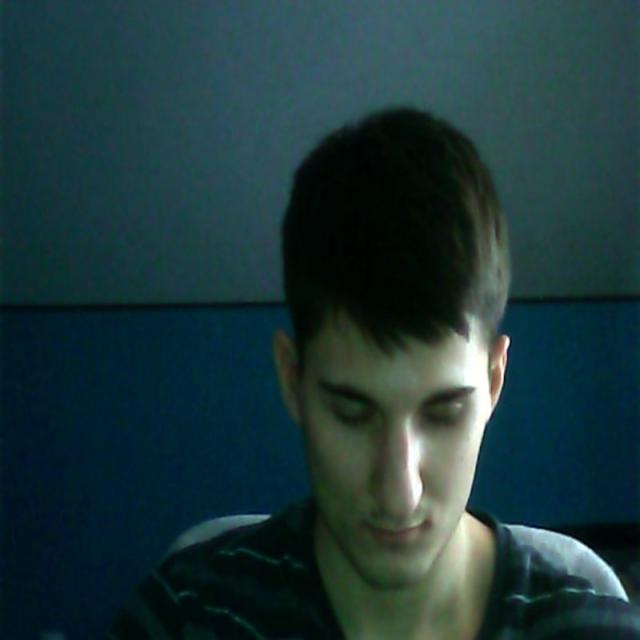Eyeclosed: (332, 400, 372, 436), (426, 404, 462, 436)
